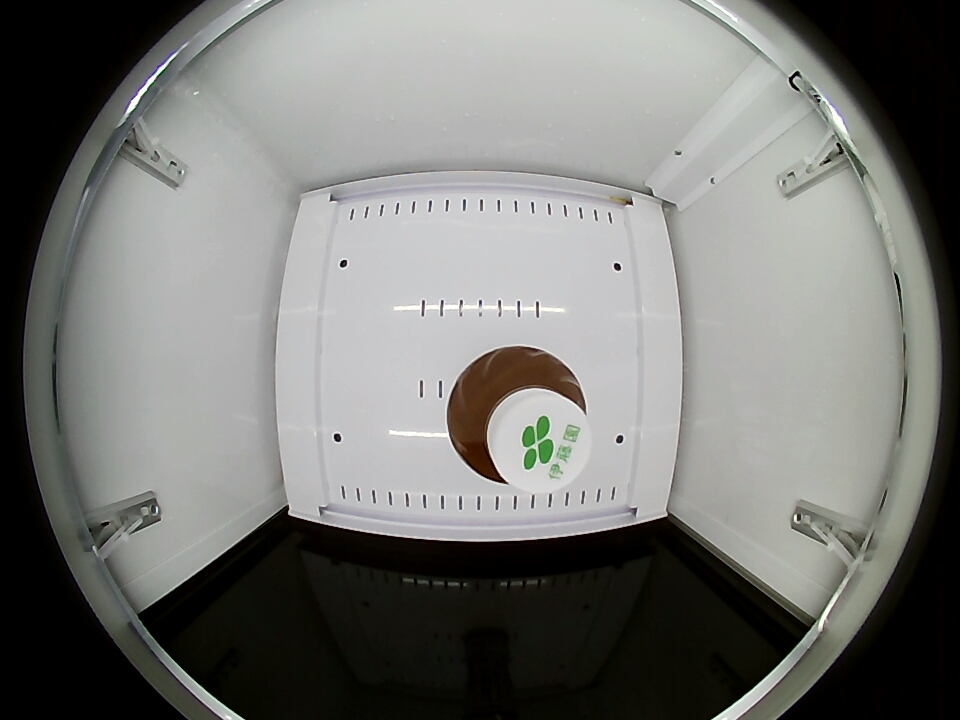baicha: (447, 347, 590, 490)
